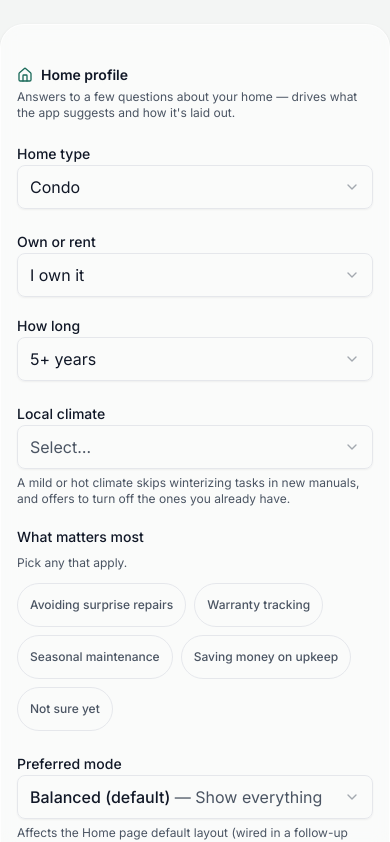
Test case: Settings › Home profile · the winterizing offer after a Mild/Hot save › lists the home's winterizing tasks, all ticked, with where · cadence
The width and height of the screenshot is (390, 842).
Click the dropdown named "Local climate" at {"x": 60, "y": 447}, box [17,425,373,469]
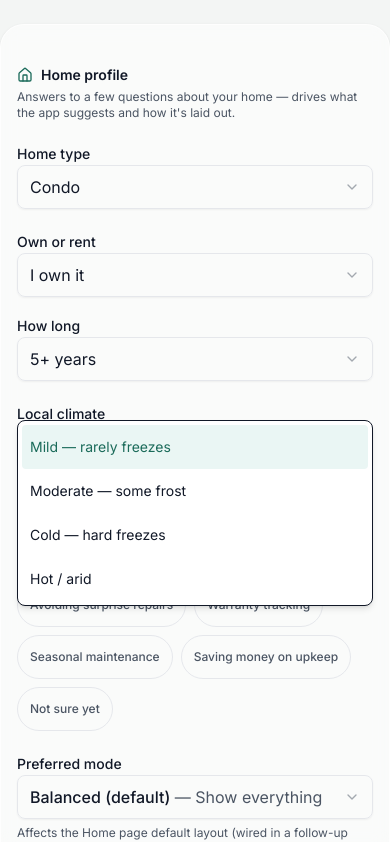
Click the option "Mild — rarely freezes" at {"x": 100, "y": 446}, box [22,425,368,469]
(page scrolled)
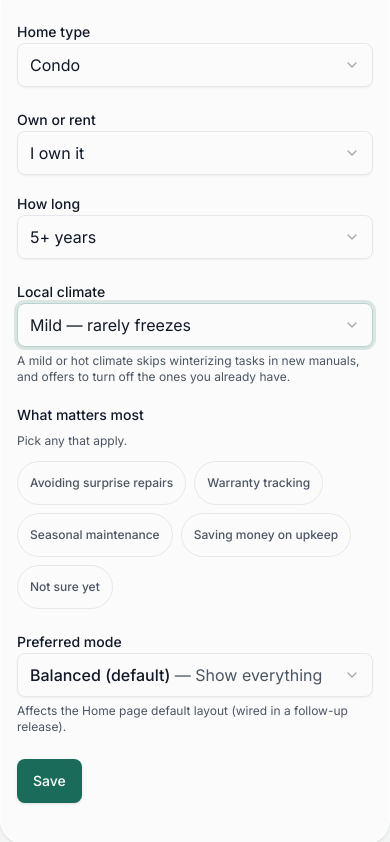
Click the button "Save" at {"x": 49, "y": 781}, box [17,759,82,803]
(page scrolled)
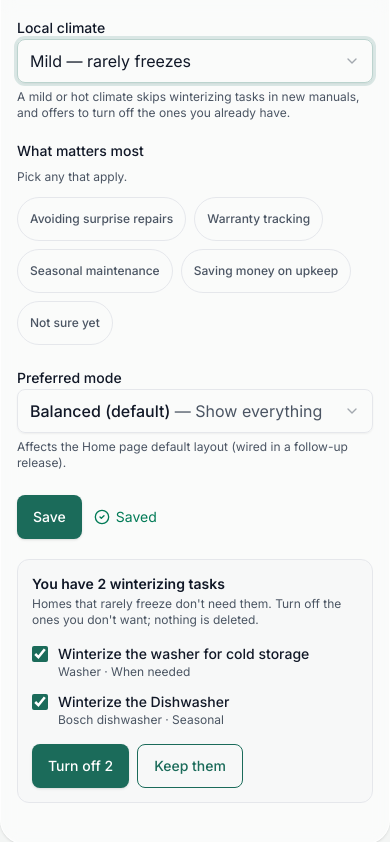
Check: the text "You have 2 winterizing tasks" is shown, box [32,575,225,592]
Check: the text "Homes that rarely freeze don't need them. Turn off the ones you don't want; nothing is deleted." is shown, box [32,596,341,627]
Check: the text "Washer · When needed" is shown, box [58,664,190,679]
